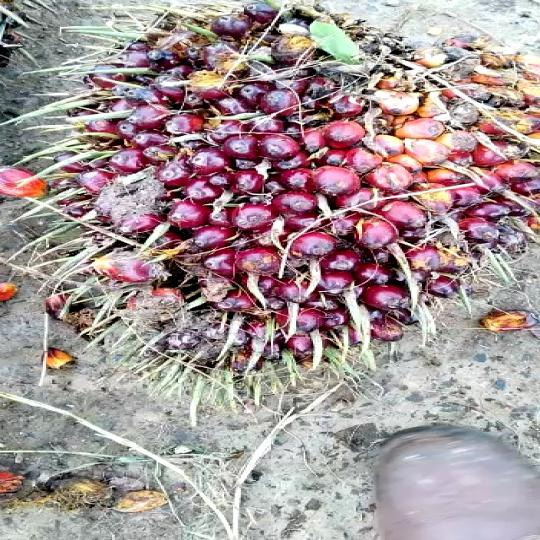masak: (31, 0, 538, 381)
